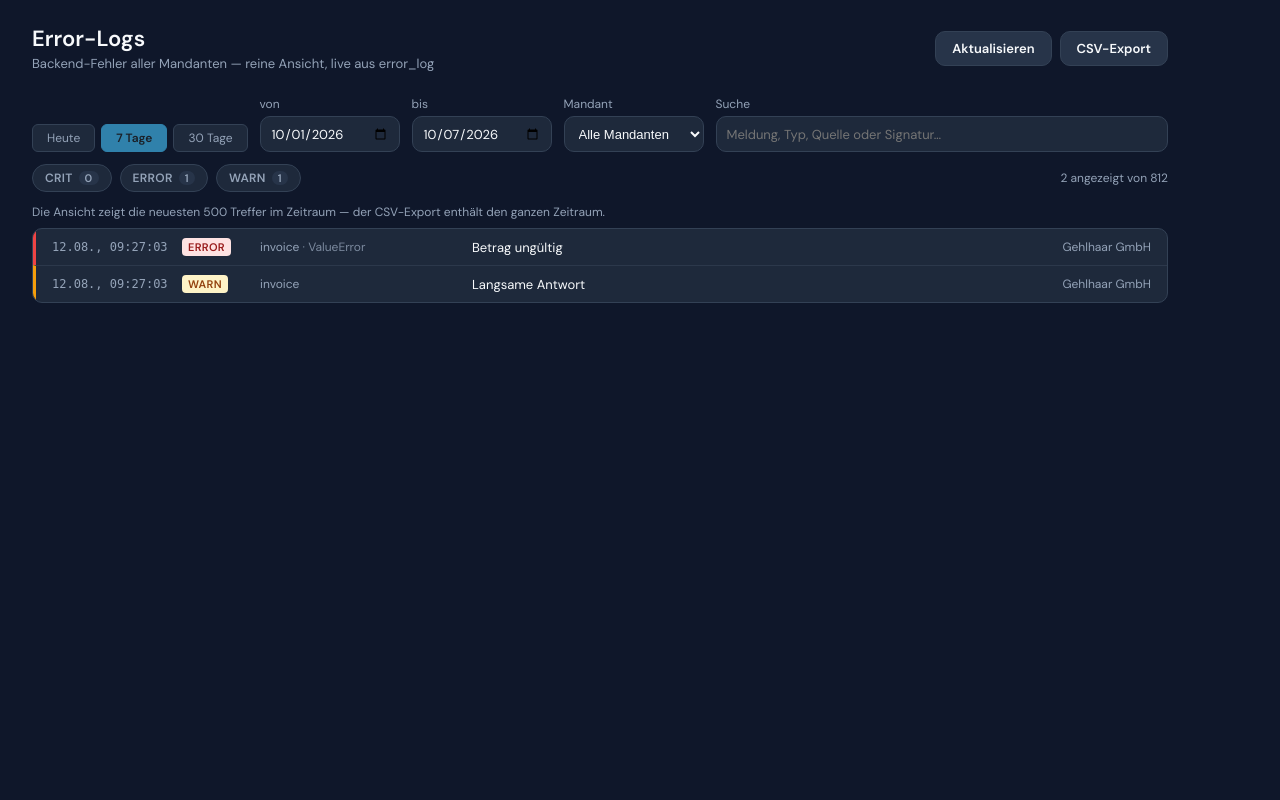
Test case: ErrorLogsScreen › „Gleiche Fehler" filtert auf die Signatur des Eintrags
Click the text "Betrag ungültig".
click(517, 247)  # box [472,238,563,256]
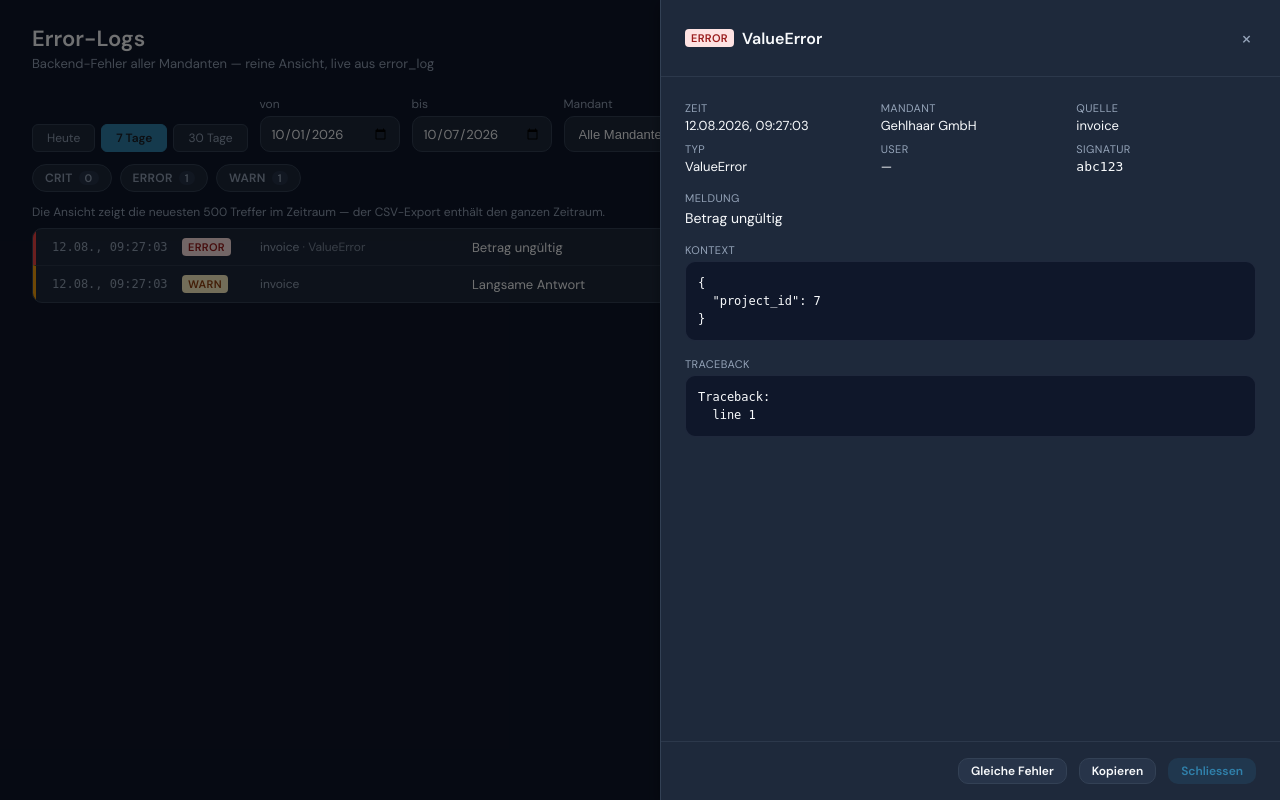
Click the button "Gleiche Fehler".
click(1012, 771)  # box [958,758,1067,784]
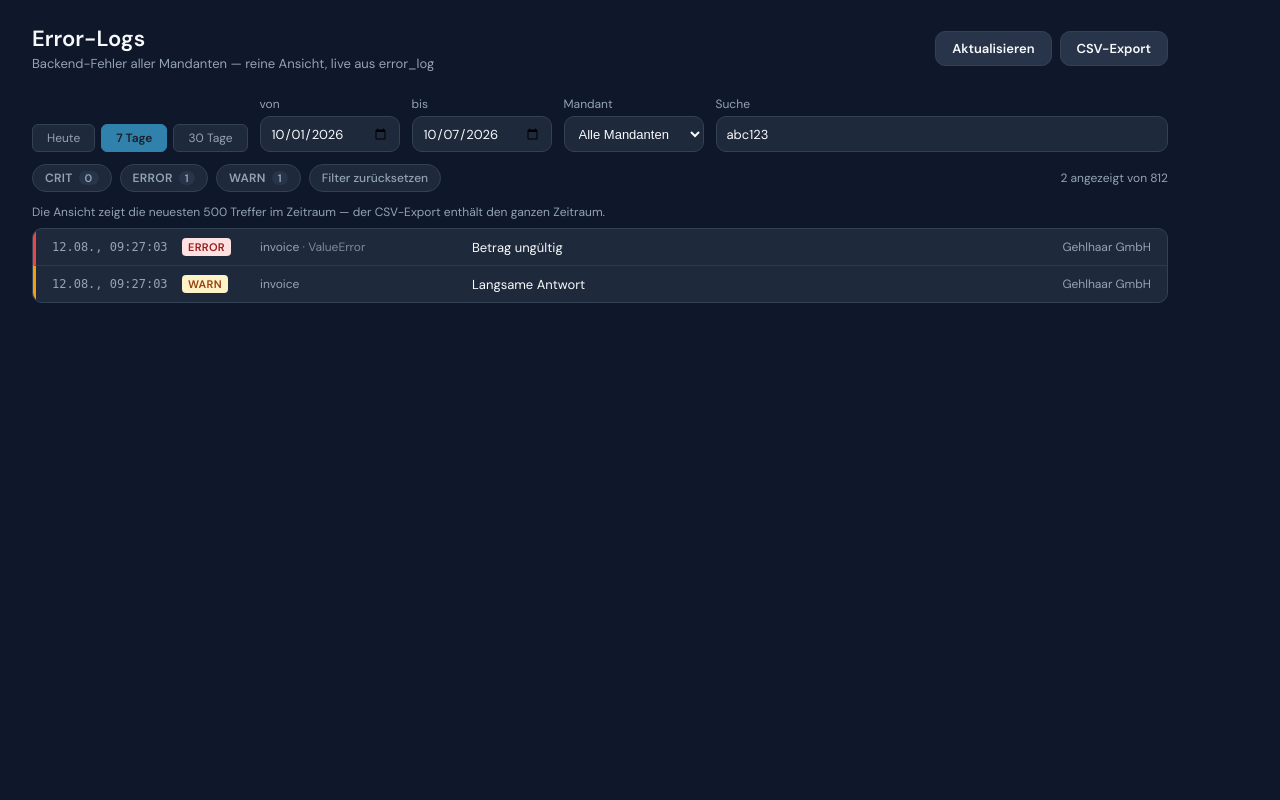
Now the dialog is gone
